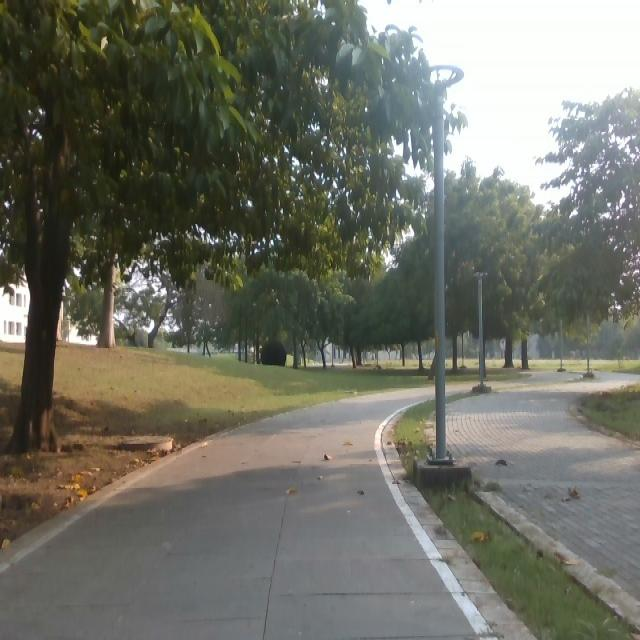lane: (3, 384, 475, 635)
